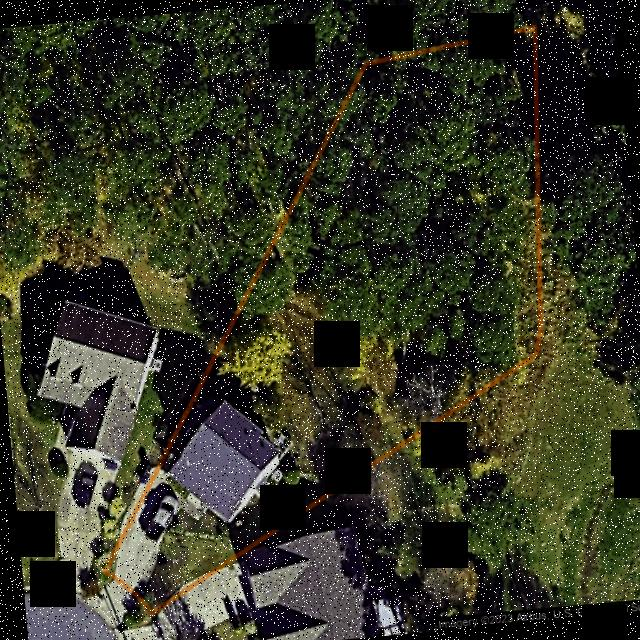Driveway: (111, 470, 205, 592)
Extra Driveway: (83, 578, 130, 629)
Extra Lawn: (117, 592, 149, 630), (86, 573, 109, 596)
House: (167, 399, 285, 522)
Other: (262, 423, 290, 447)
